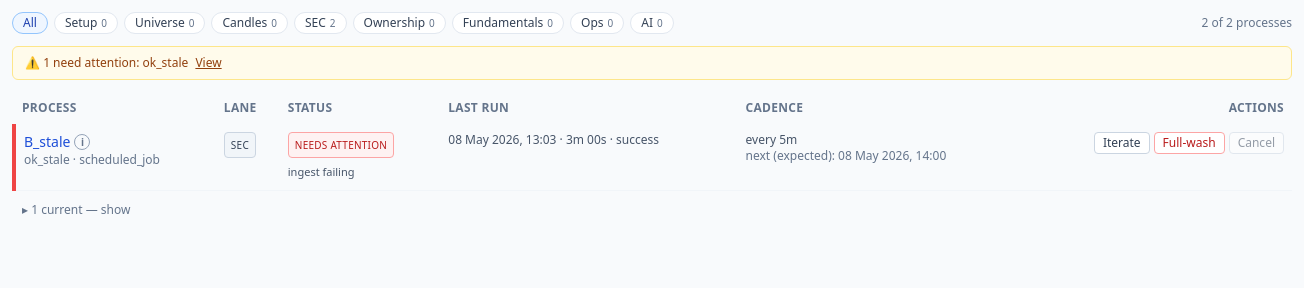
Test: ProcessesTable › sorts stale rows above non-stale ok rows (status='ok' + stale_reasons populated)
Step 1. Click the button "▸ 1 current — show" → [76, 210], box top-left (22, 202), bottom-right (130, 218)
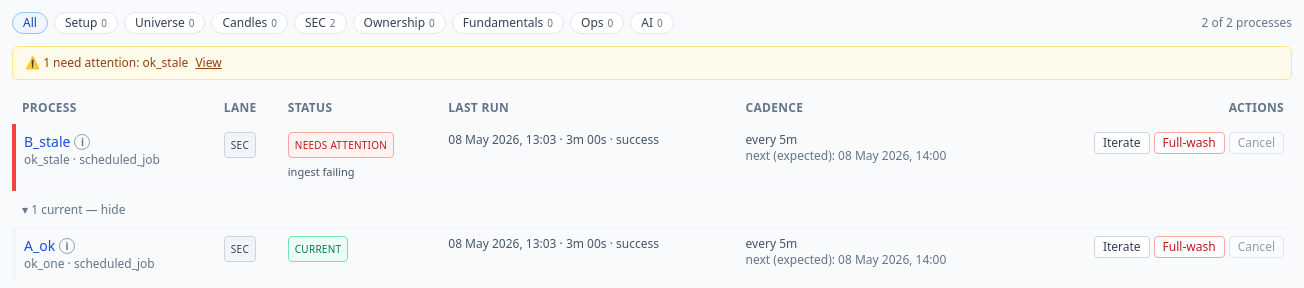
Expected: the link "B_stale" is shown, top-left (24, 132), bottom-right (70, 152)
Result: the link "A_ok" is shown at top-left (24, 236), bottom-right (55, 256)
